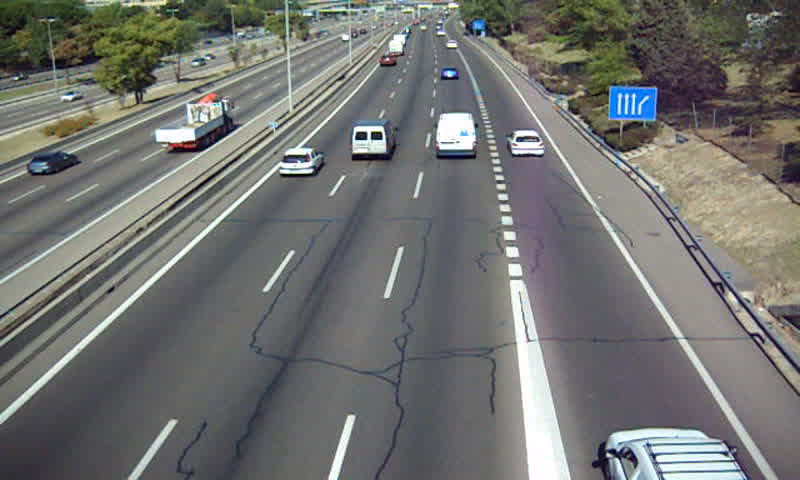car: (277, 147, 323, 177), (508, 128, 544, 155), (440, 66, 460, 82)
van: (352, 118, 396, 160), (435, 112, 477, 156)
